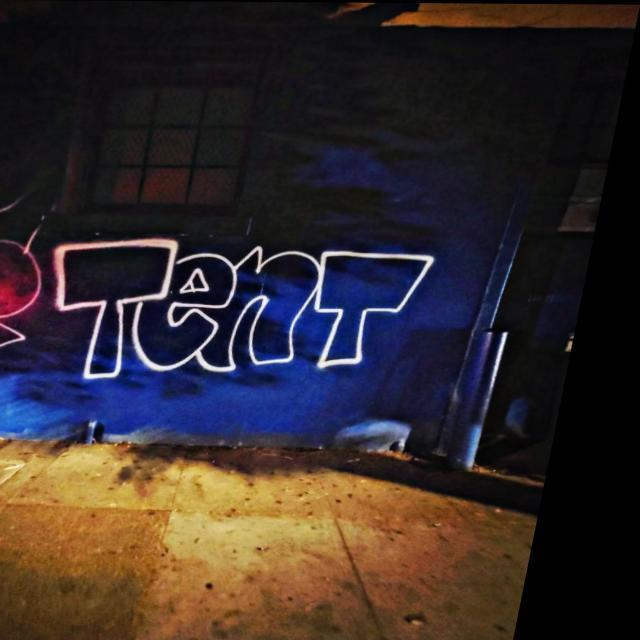-: (39, 232, 456, 382), (0, 194, 65, 386)
